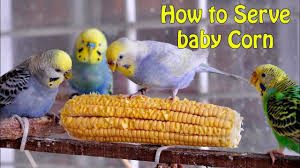budgie: (104, 37, 245, 102), (1, 47, 74, 125), (249, 63, 300, 165), (70, 28, 113, 95)
